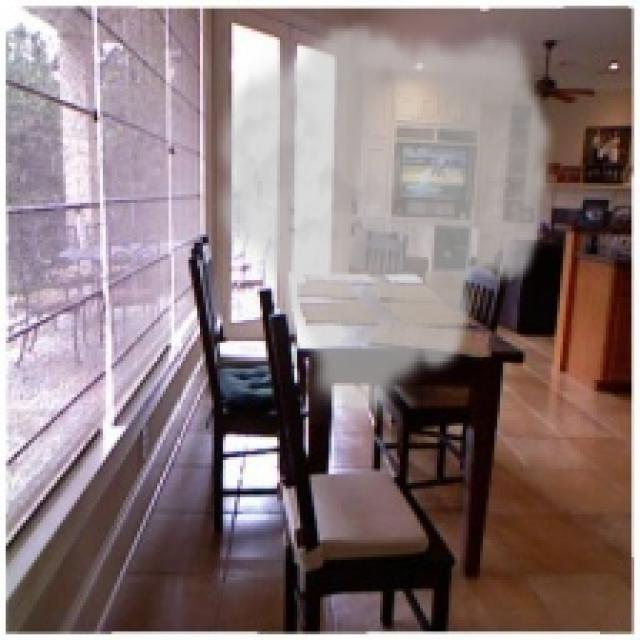Smoke: (205, 17, 558, 432)
